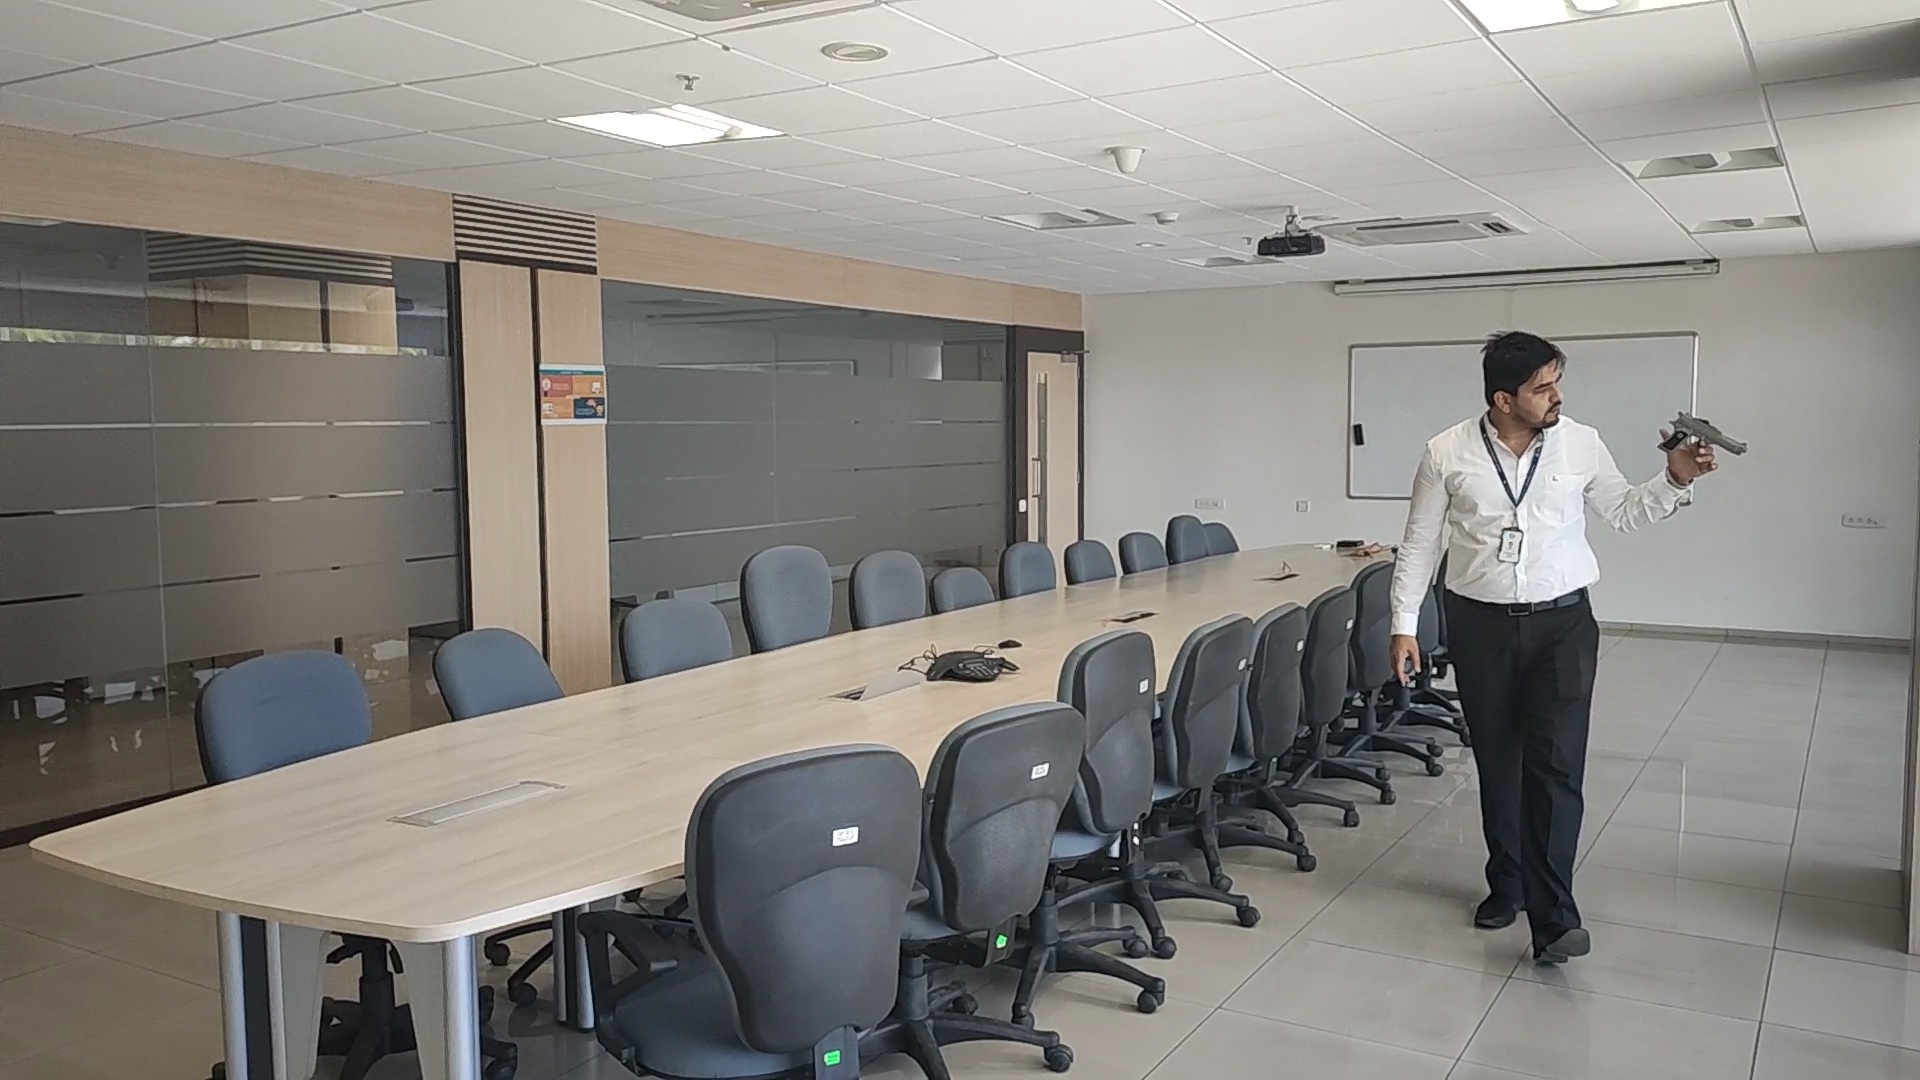gun: (1668, 410, 1749, 451)
